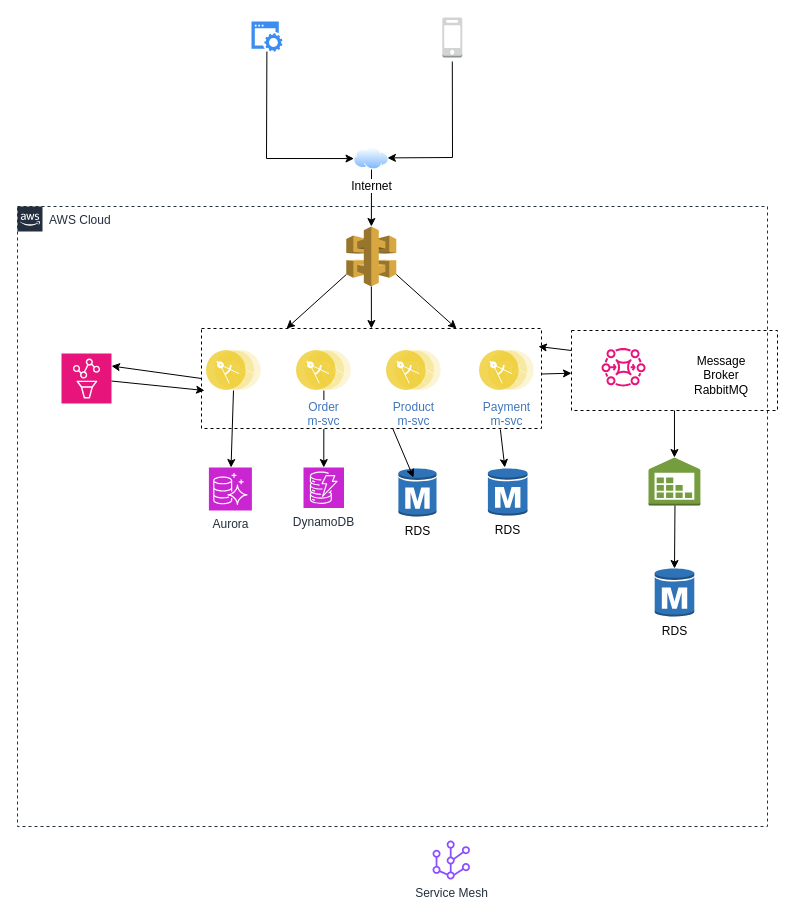
The diagram is 795 pixels wide and 918 high, and some of its shapes have lost their labels. The centre of each missing label's shape, as x and y in pixels:
ApiGateway: (370,256)
Inventory svc: (674,481)
Mobile Client: (451,37)
Prometheus: (86,378)
Users m-svc: (233,370)
Webapp: (266,36)
